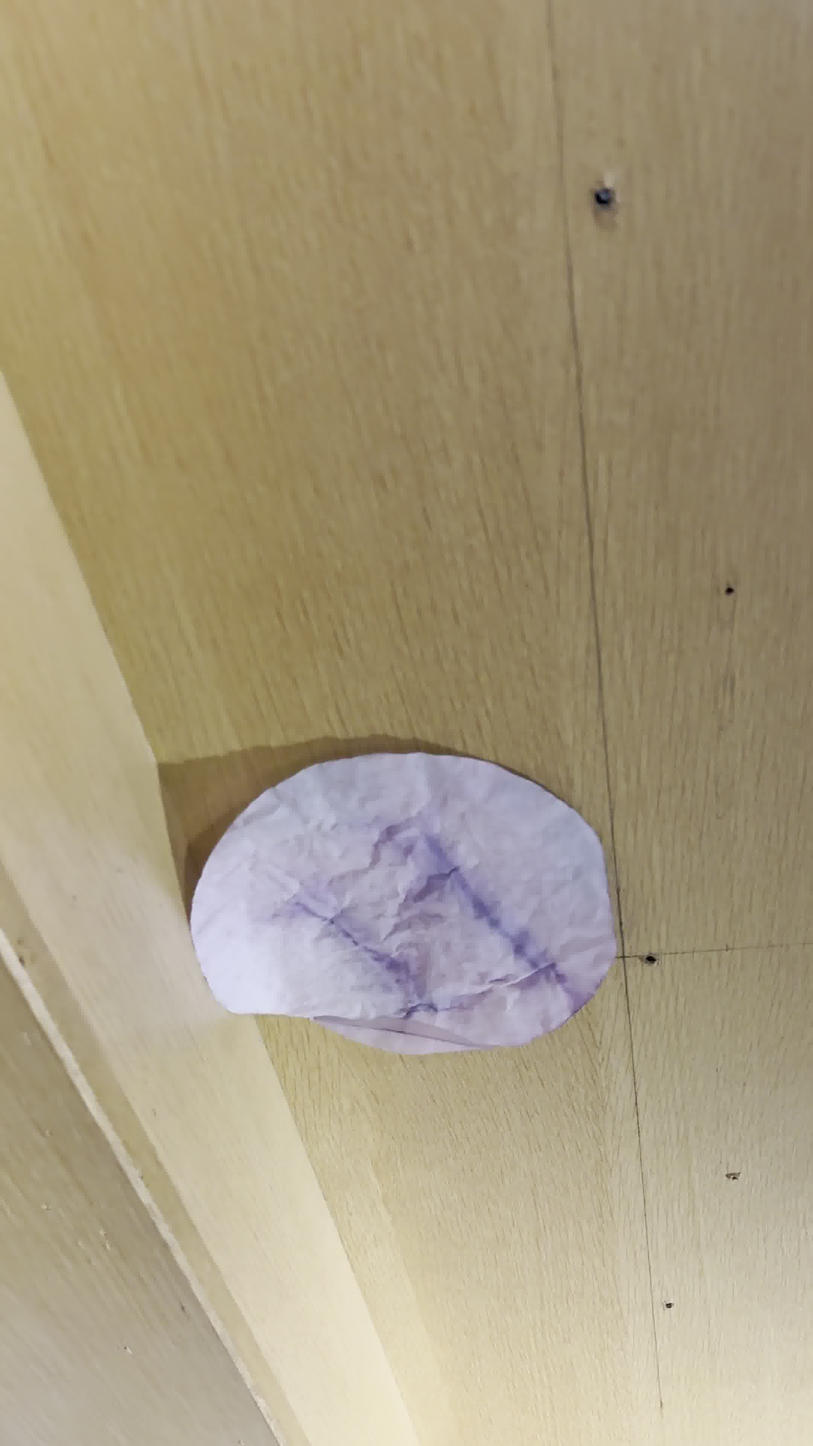Target: (188, 754, 616, 1053)
